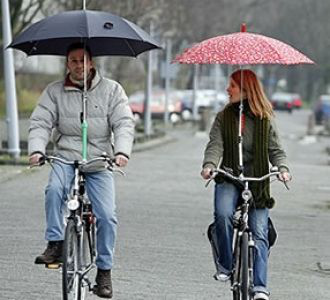bikerider: (27, 28, 143, 300), (193, 48, 288, 300)
